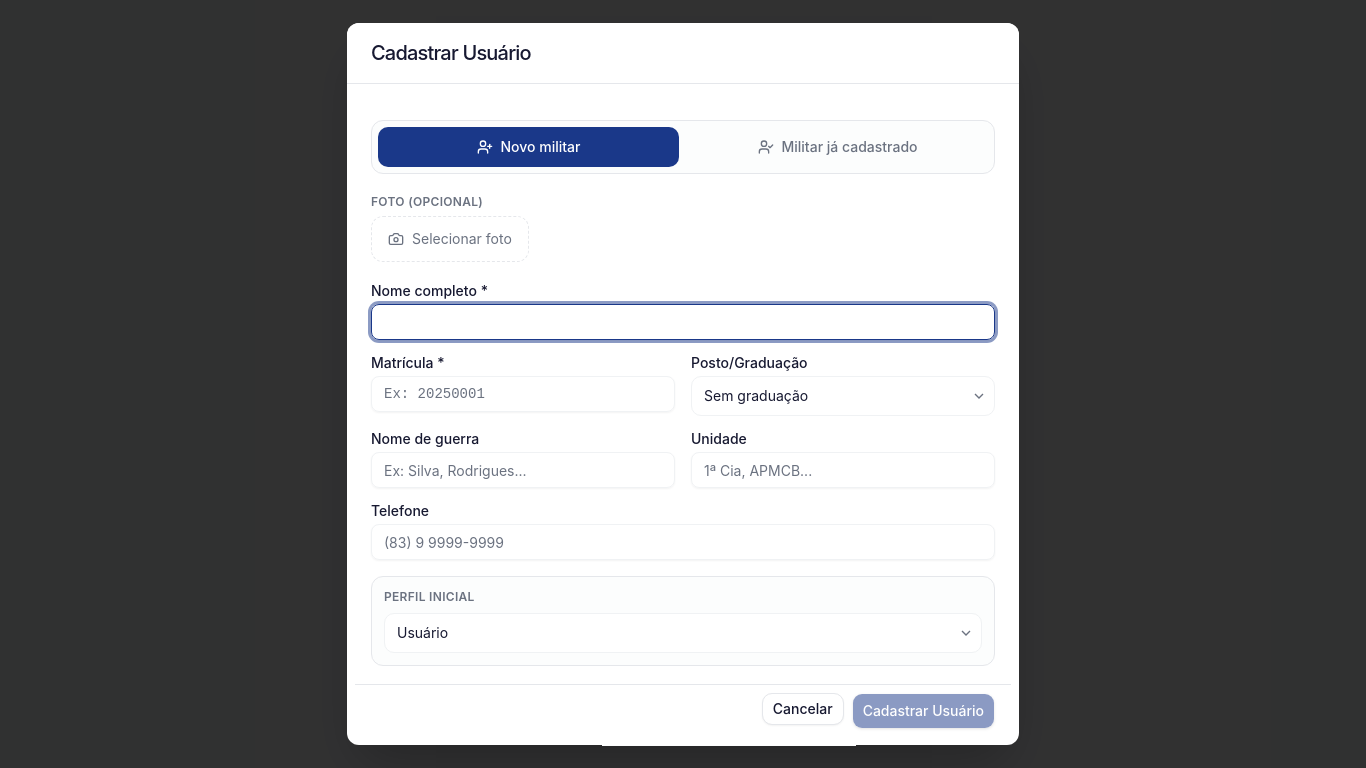
Test case: CadastrarUsuarioDialog — modo novo: e-mail de acesso falhou › militar criado + convite ok → tela de sucesso normal
Type "Fulano de Tal" into the field labelled "Nome completo *" at point(683, 322), box [371, 304, 995, 340]
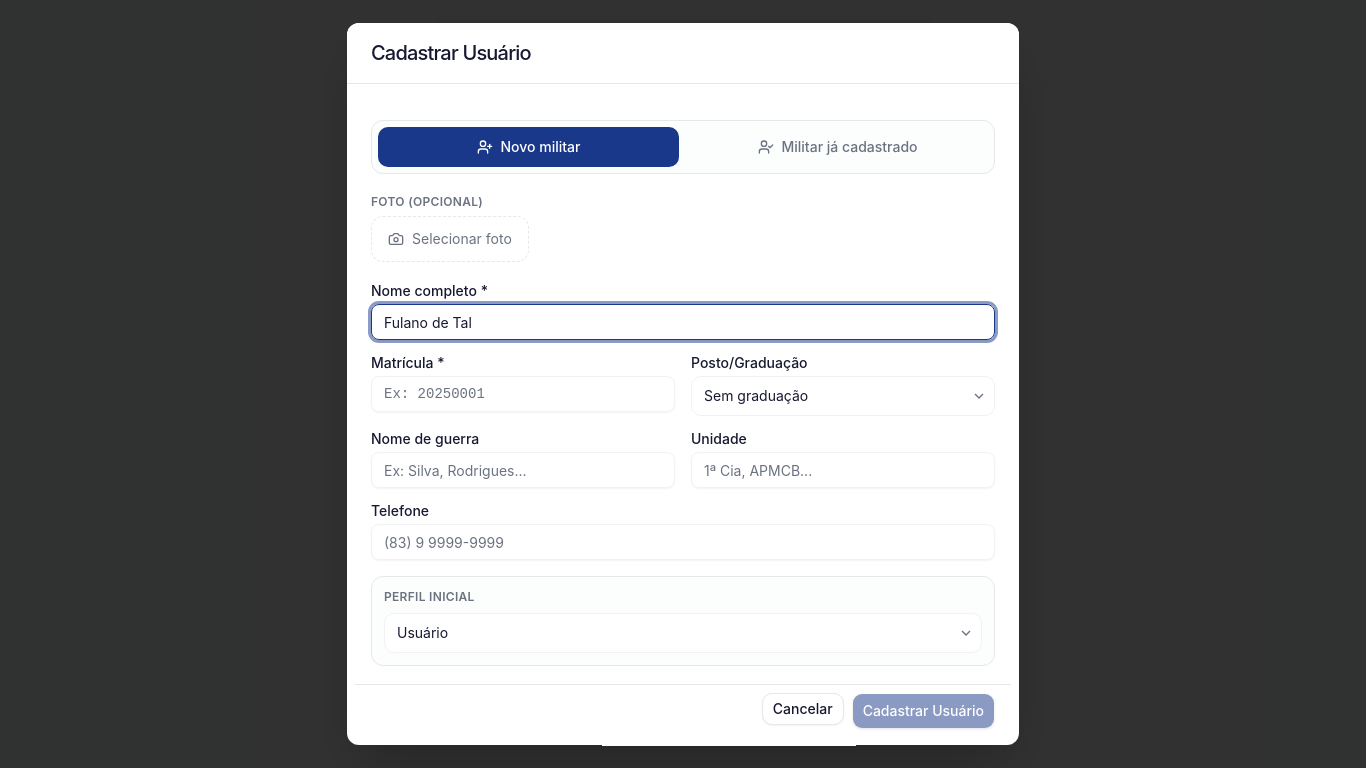
Type "20259999" into the field labelled "Matrícula *" at point(523, 394), box [371, 376, 675, 412]
(page scrolled)
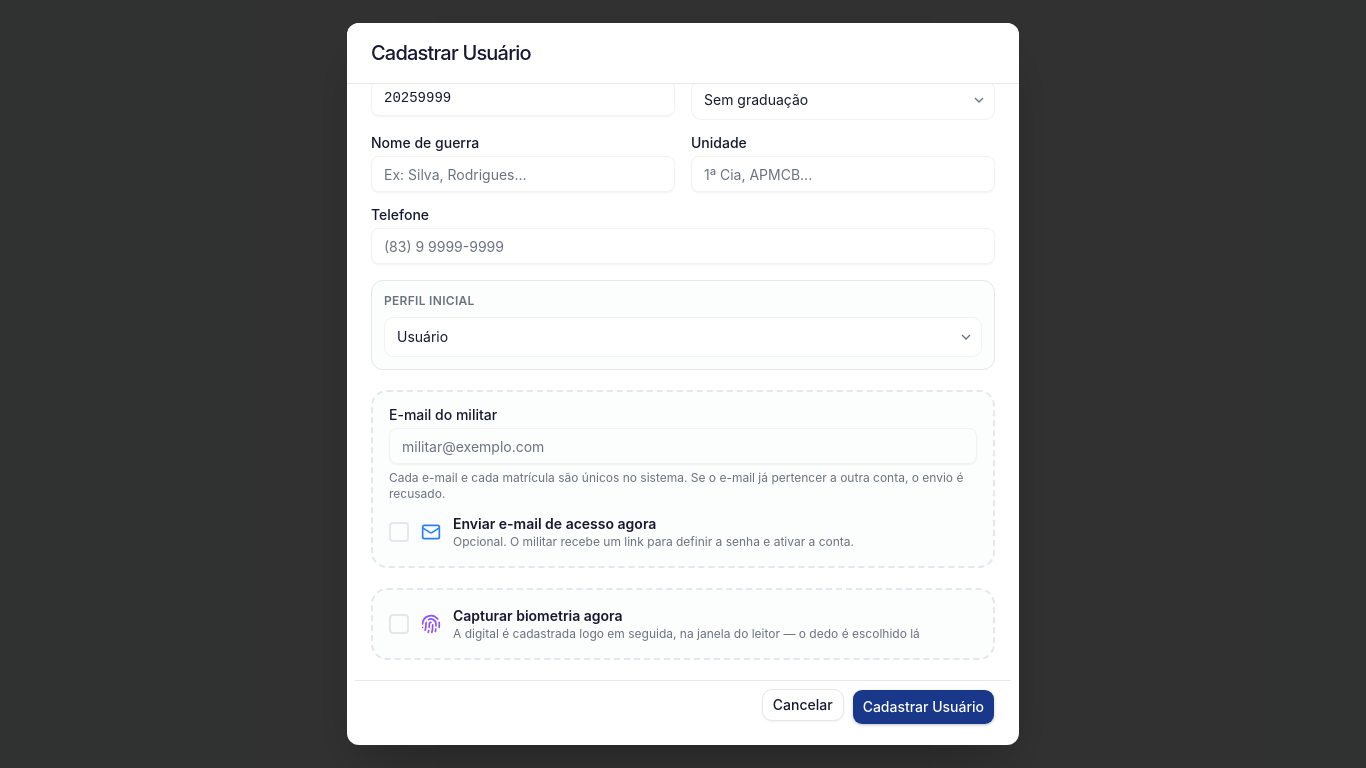
Click the text "Enviar e-mail de acesso agora" at point(555, 524), box [453, 515, 656, 532]
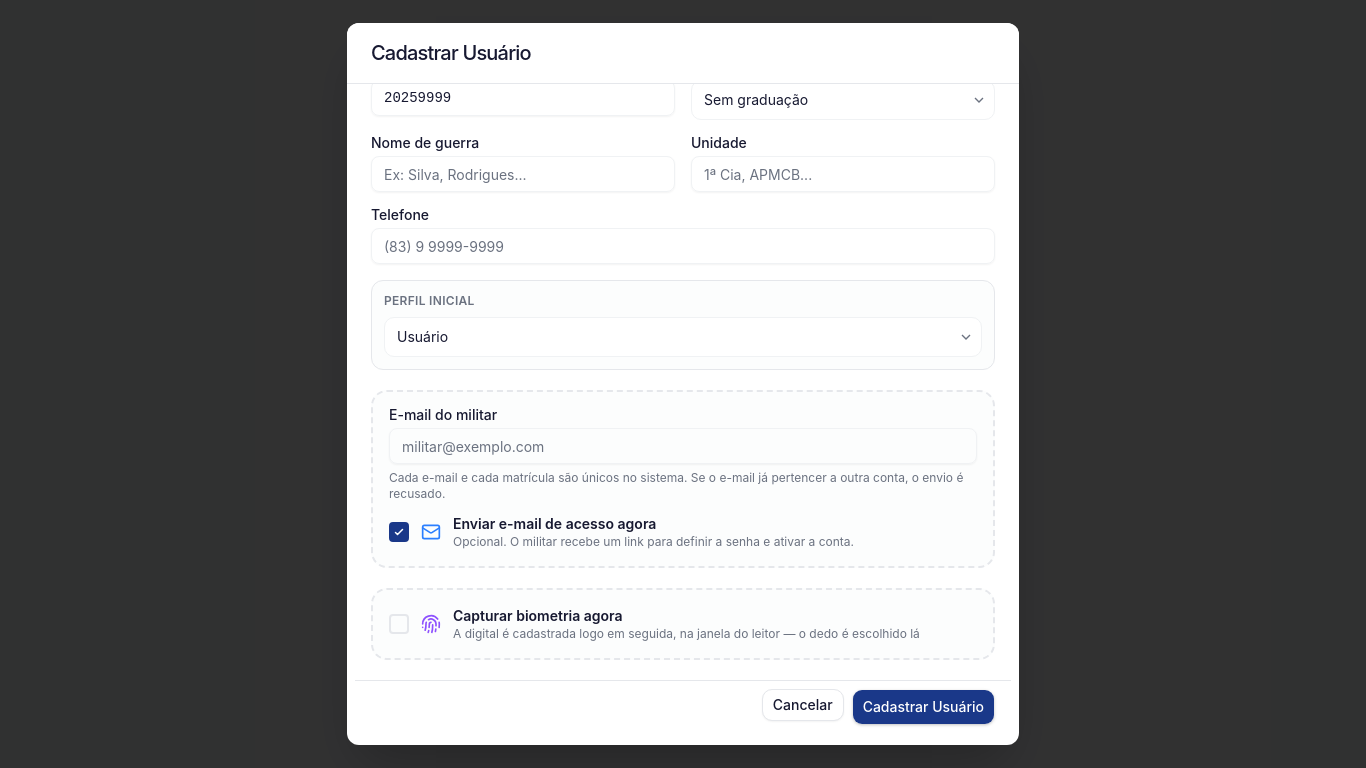
Type "fulano@exemplo.com" into the field labelled "E-mail do militar" at point(683, 446), box [389, 428, 977, 464]
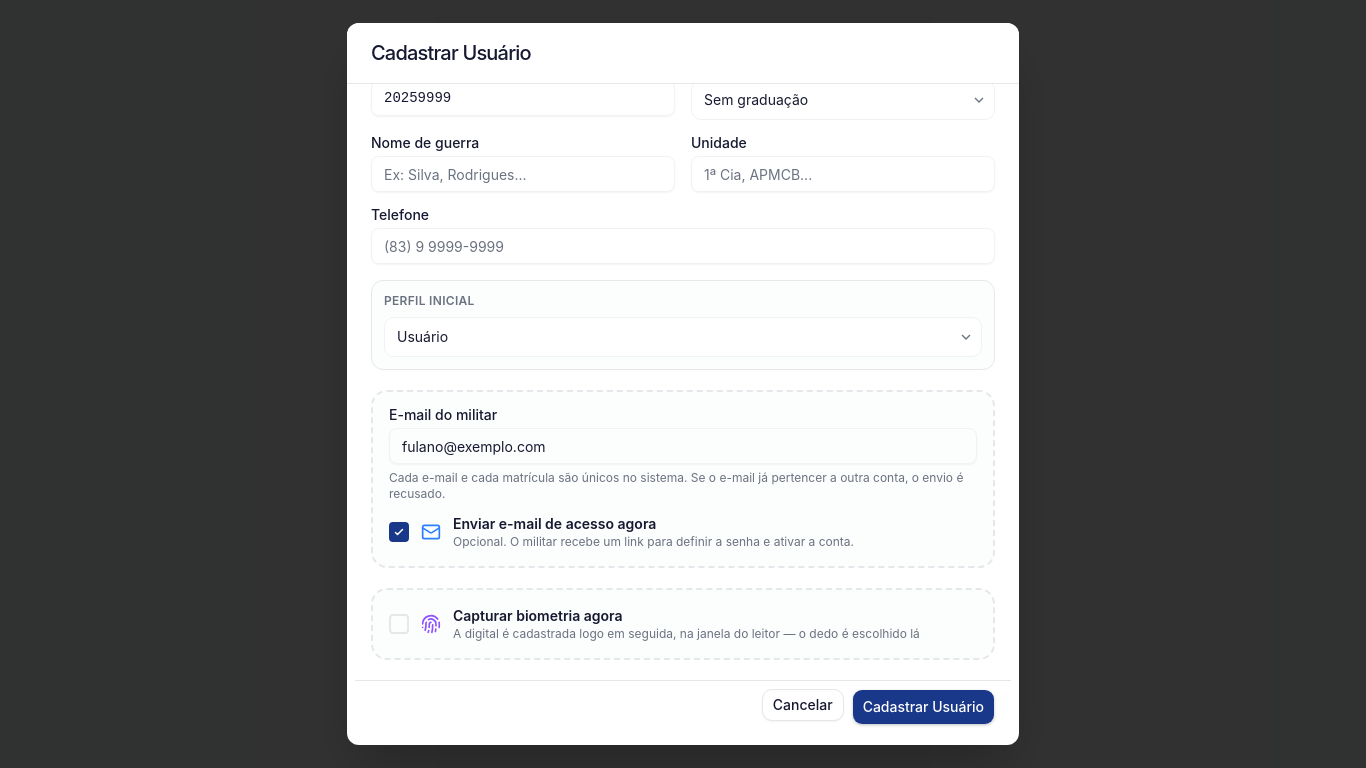
Click the button with test id "cm-submit-btn" at point(923, 707), box [852, 689, 995, 725]
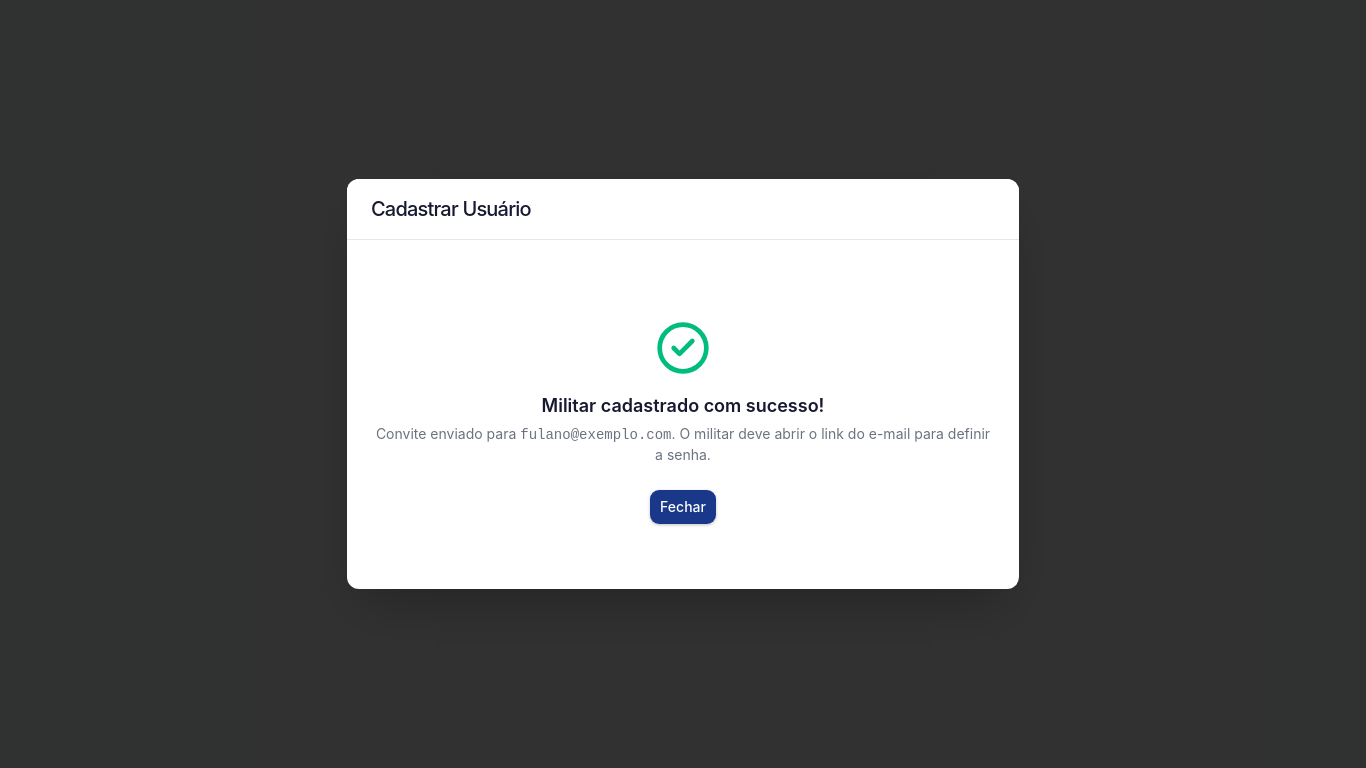
Expected: the text "Militar cadastrado com sucesso!" is shown, [542, 395, 824, 416]
Expected: the text "deve abrir o link do e-mail" is shown, [655, 425, 990, 463]
